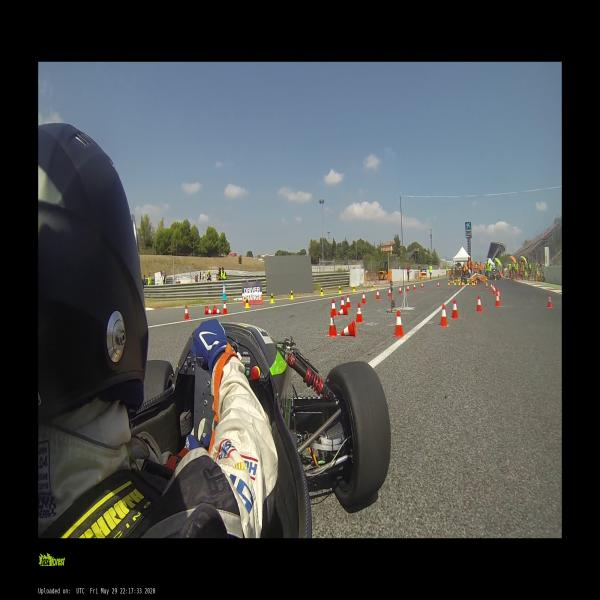orange_cone: (393, 310, 405, 337), (326, 310, 338, 337), (341, 320, 356, 336), (438, 304, 448, 327), (355, 301, 364, 324), (451, 300, 459, 319), (330, 298, 337, 316), (546, 293, 553, 309), (183, 305, 190, 320), (476, 296, 482, 312), (496, 288, 502, 304), (340, 297, 346, 311), (495, 292, 500, 308), (204, 306, 214, 314), (222, 301, 228, 314), (213, 305, 221, 314), (338, 306, 347, 314), (346, 294, 351, 308), (361, 291, 366, 304), (387, 287, 392, 298), (376, 290, 380, 300), (398, 286, 402, 295), (406, 285, 410, 293), (420, 282, 424, 289), (413, 284, 416, 291), (490, 284, 493, 291), (437, 282, 440, 288), (494, 286, 496, 294), (492, 284, 494, 292), (486, 283, 488, 289), (474, 282, 476, 288), (461, 282, 463, 288), (450, 280, 452, 286), (476, 280, 478, 285), (456, 279, 457, 283)
unknown_cone: (222, 281, 227, 300)
yellow_cone: (244, 296, 251, 308), (270, 293, 274, 303), (320, 287, 324, 297), (290, 290, 294, 300), (338, 286, 342, 294), (352, 285, 355, 293), (370, 284, 374, 290), (458, 280, 461, 285), (463, 279, 465, 285), (448, 280, 450, 285), (467, 280, 469, 285), (454, 280, 456, 285), (472, 281, 474, 285), (453, 278, 454, 283), (495, 276, 496, 280), (486, 279, 487, 283)
